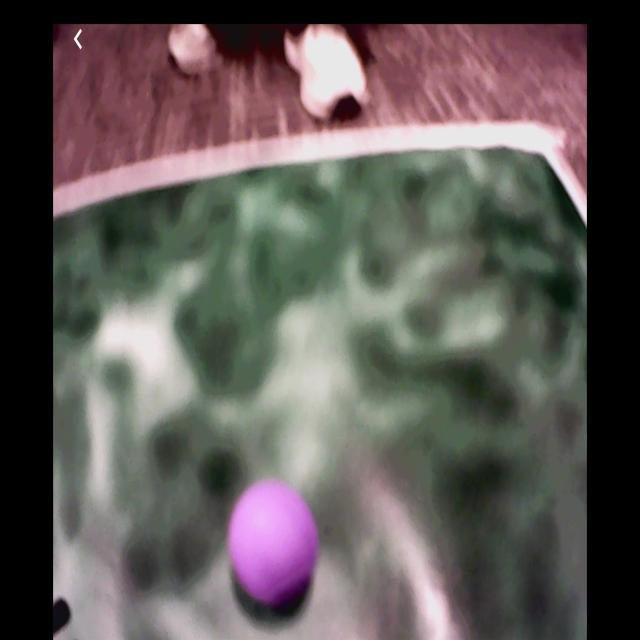ball: (228, 479, 319, 603)
